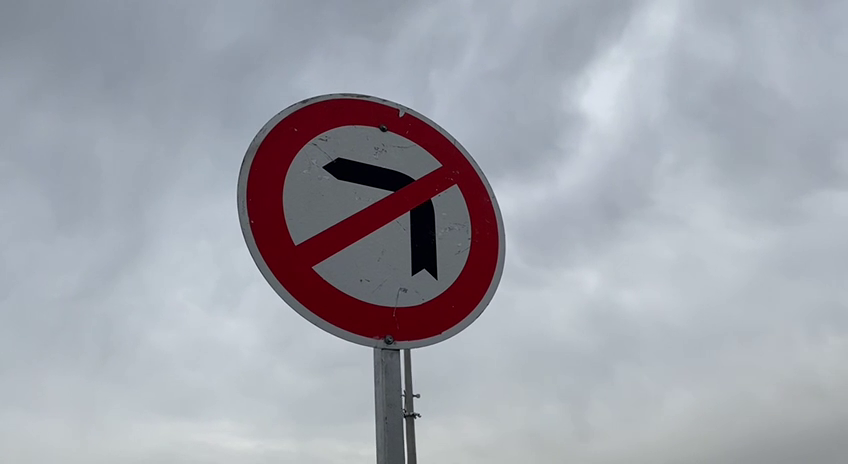noTurnLeft: (228, 89, 513, 352)
